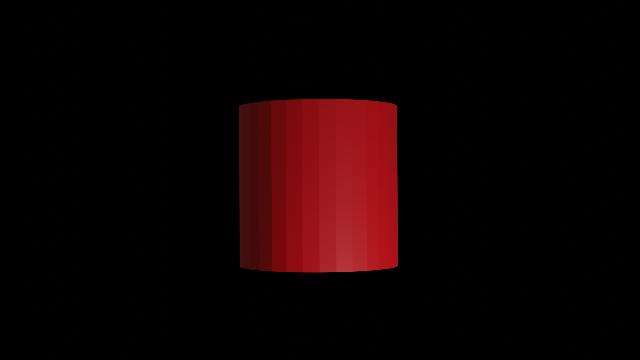Cylinder: (232, 87, 406, 278)
